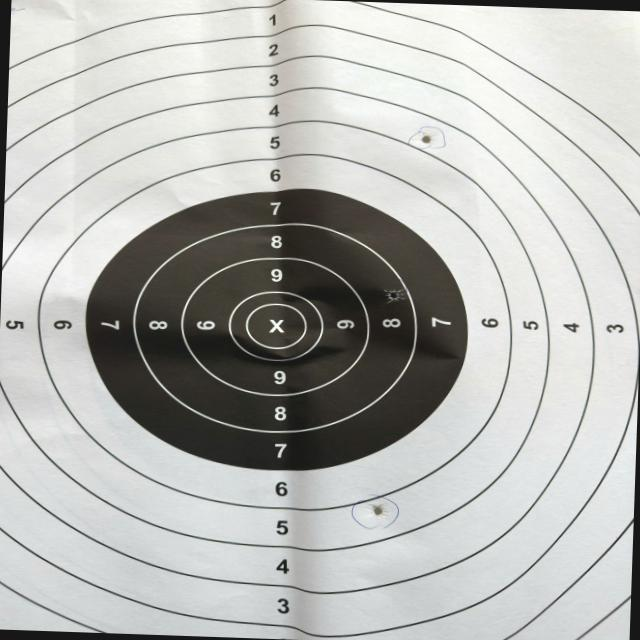bullet: (385, 290, 402, 302), (373, 505, 383, 515), (421, 134, 431, 143)
target: (0, 0, 640, 640)
